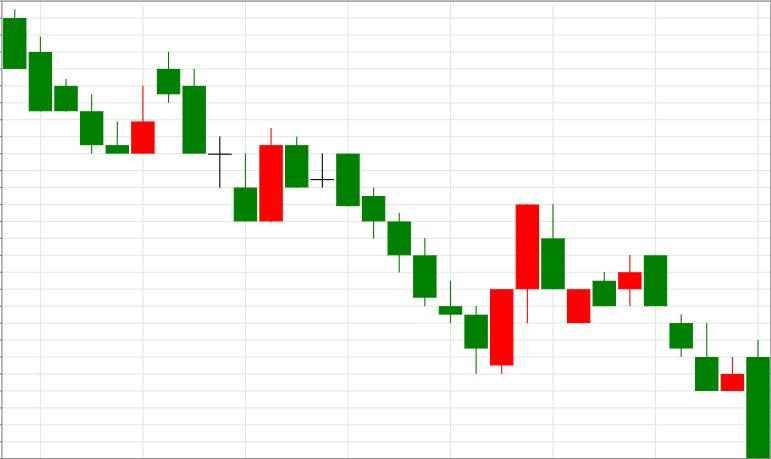bullish_engulfing_rise: (286, 137, 513, 374), (157, 52, 282, 222)
